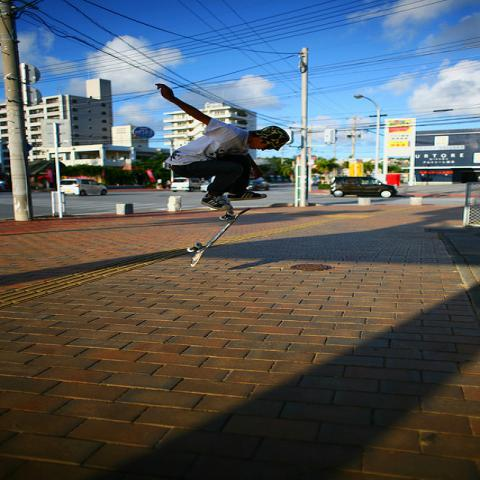car: (331, 176, 398, 198), (60, 178, 110, 196), (169, 178, 201, 192), (246, 179, 272, 191)
